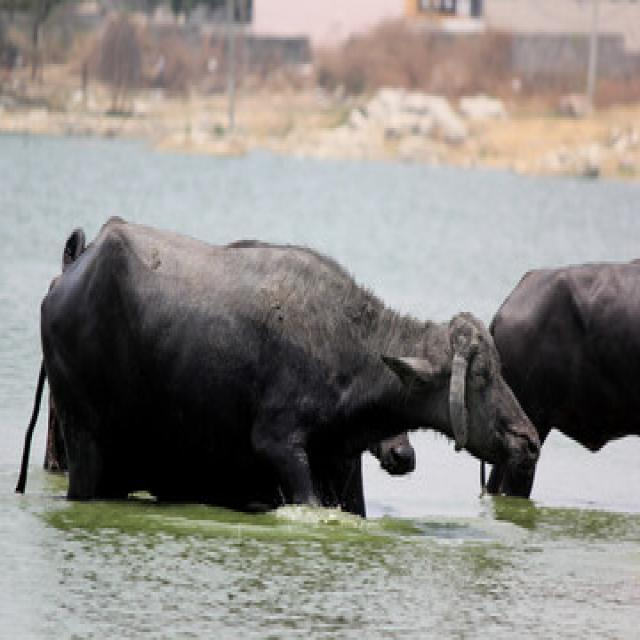Buffalo: (16, 212, 545, 523)
